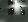person: (9, 1, 26, 16)
